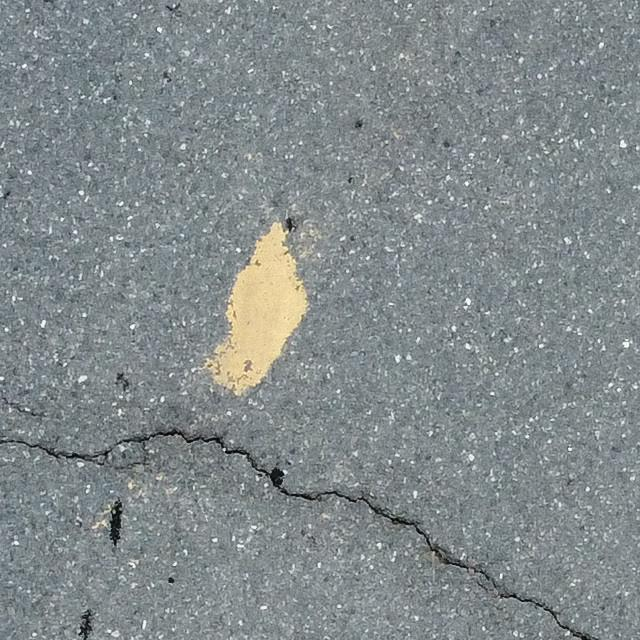TransverseCrack: (1, 428, 591, 640)
